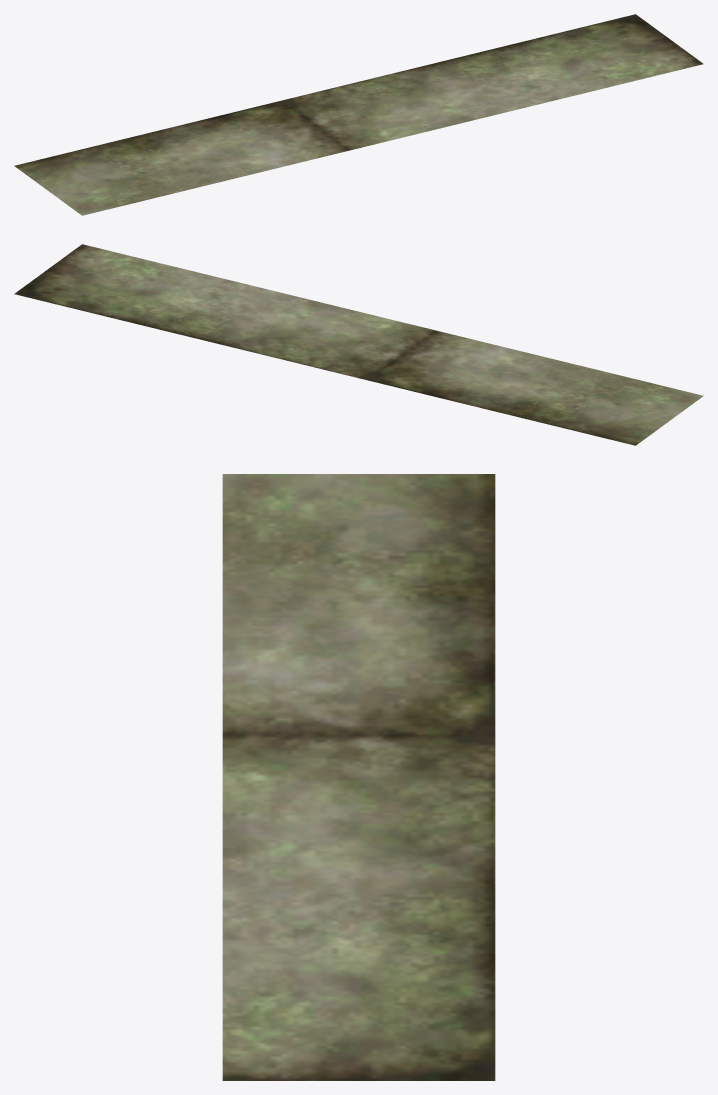
The model's file is OVERHILL_A_01_OBJECT133.fbx.
3 views of the same model, one above another, from view 1: azimuth 30°, elevation 25°; view 2: azimuth 150°, elevation 25°; view 3: azimuth 270°, elevation 25° (orthographic). The views are drawn at different scales.
Visible parts, largest first — view 1: OVERHILL_A_01_OBJECT133; view 2: OVERHILL_A_01_OBJECT133; view 3: OVERHILL_A_01_OBJECT133.
Part boxes in pixels (x1,y1,x2,y2): OVERHILL_A_01_OBJECT133: (14,14,703,215); OVERHILL_A_01_OBJECT133: (14,244,703,445); OVERHILL_A_01_OBJECT133: (222,474,495,1080).
Bounding box in the file's own units: 40000 × 0.00124 × 7605.
Materials: 1 (1 with a texture image).
